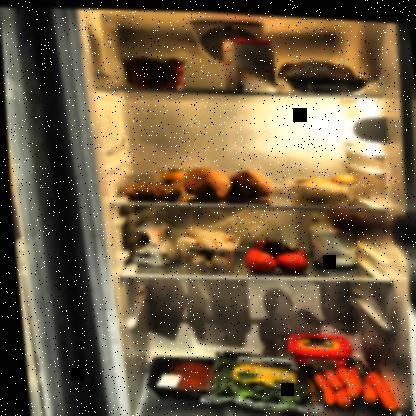beef: (139, 351, 225, 401)
butter: (281, 326, 352, 376)
carrot: (298, 354, 398, 411)
chicken: (267, 47, 367, 91)
corn: (156, 164, 190, 195)
mushrooms: (168, 220, 237, 267)
potato: (289, 166, 361, 199)
shrimp: (116, 178, 180, 198)
spinach: (194, 342, 318, 415)
strawberries: (114, 51, 189, 93)
sweet_potato: (179, 163, 275, 200)
tomato: (234, 228, 311, 276)
